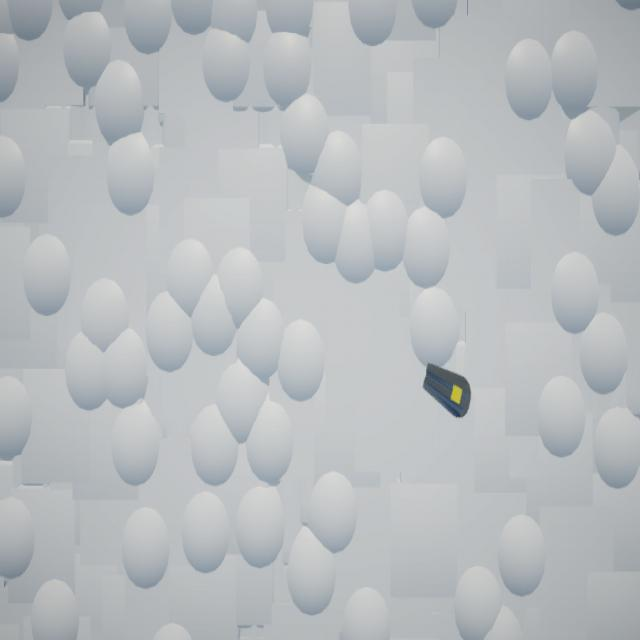handle_folk: (424, 364, 473, 418)
